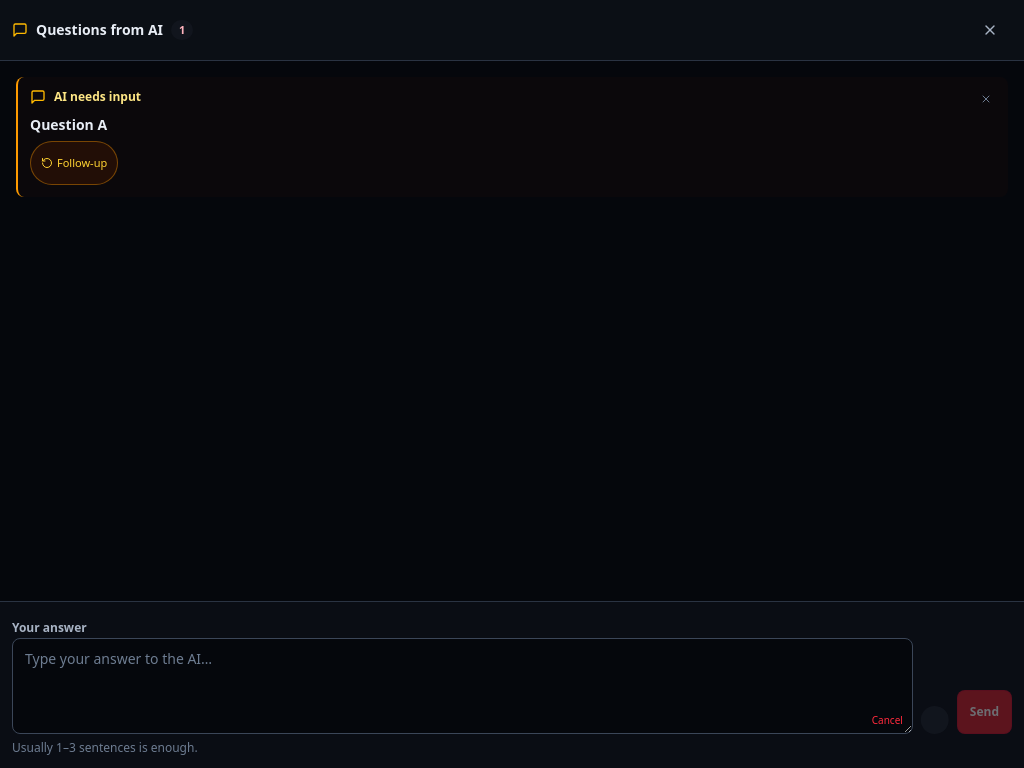
Test: QuestionPanel › lifecycle: follow-up chip is a collapsed disclosure that expands to the prior answers (oldest first)
Expected: the text "First reply" is not shown
Step 1. Click the button "Follow-up" → [74, 163], box [30,141,118,185]
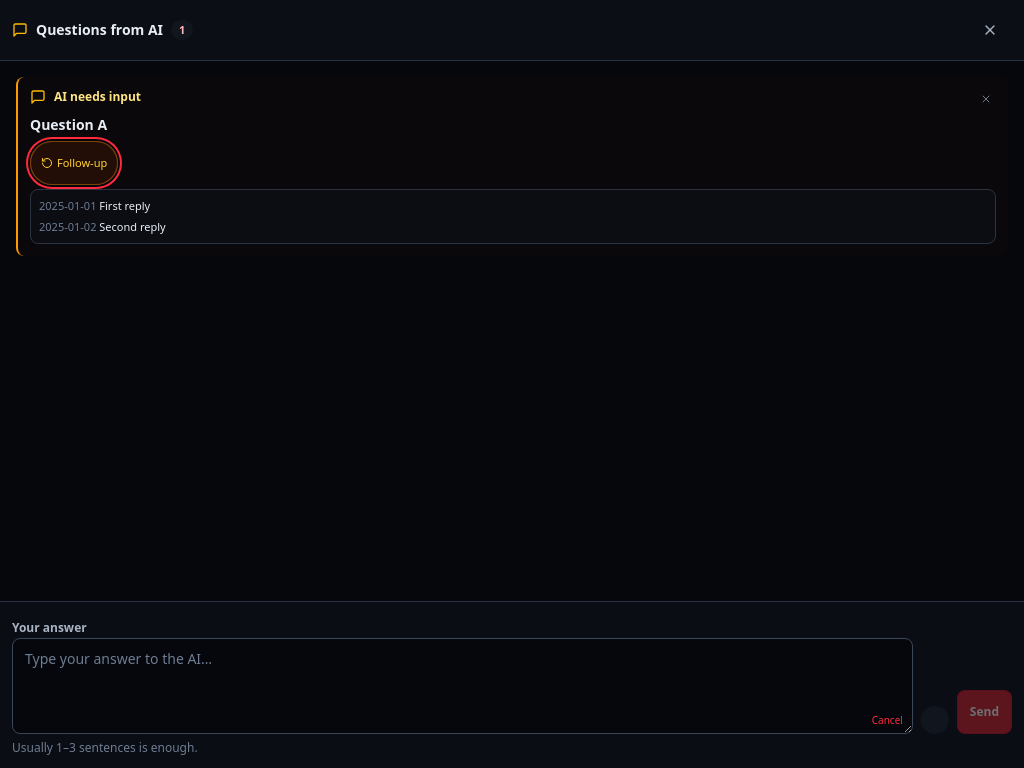
Expected: the button "Follow-up" is expanded, [30,141,118,185]
Expected: the number of list items is 2, [39,198,150,213]; [39,218,166,234]
Expected: the list item "2025-01-01 First reply" is shown, [39,198,150,213]
